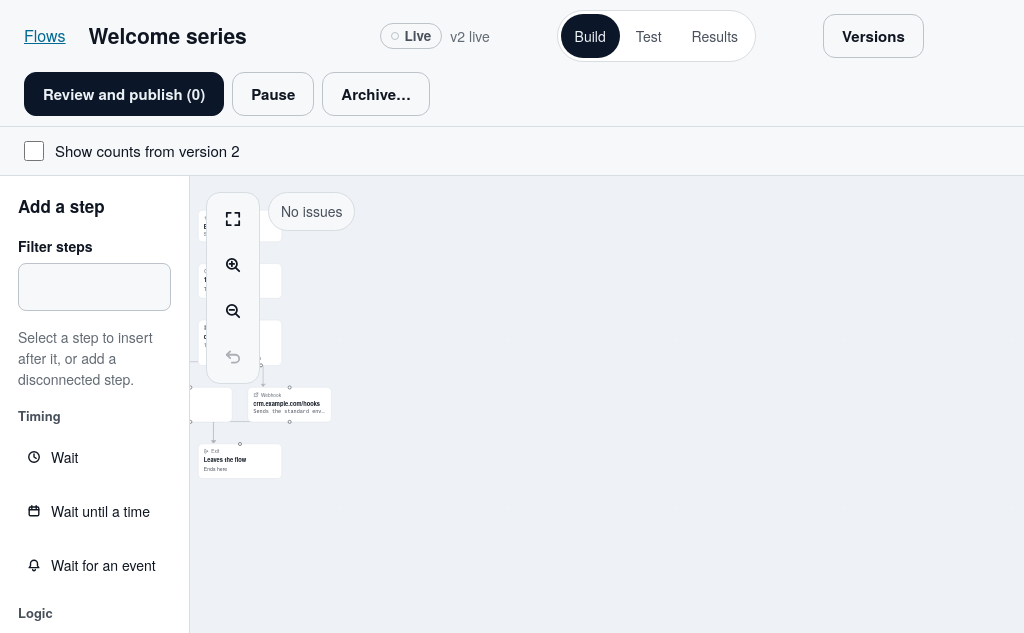
Test case: announcements and notices › drops an old notice once a later action goes through
Click the button "Pause".
click(273, 94)  # box [232,72,314,116]
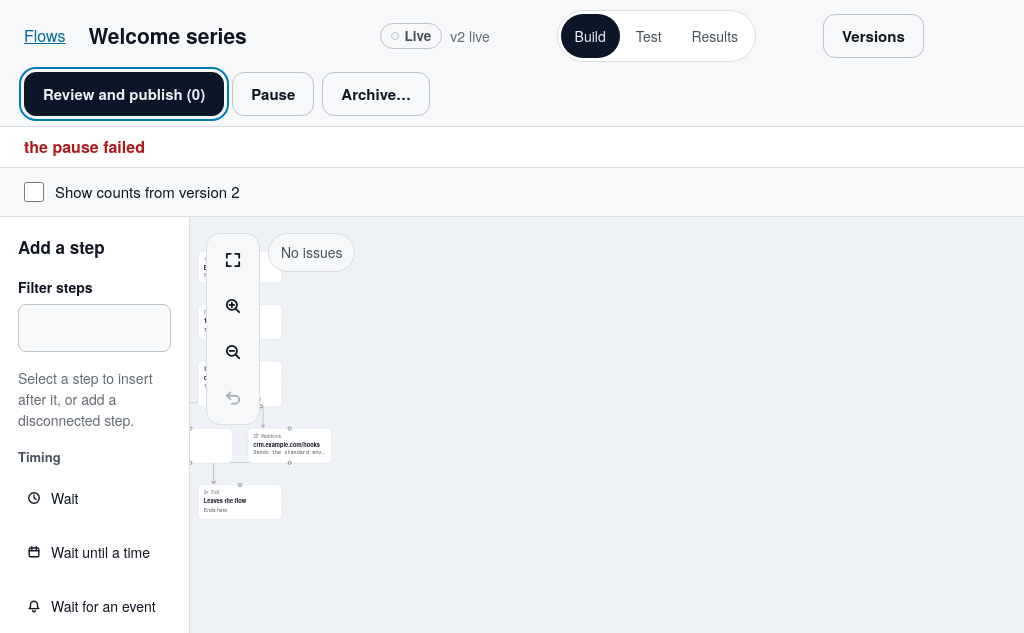
Check: the message "the pause failed" is shown, box [0,127,1023,168]
Click the button "Review and publish (0)".
click(124, 94)  # box [24,72,224,116]
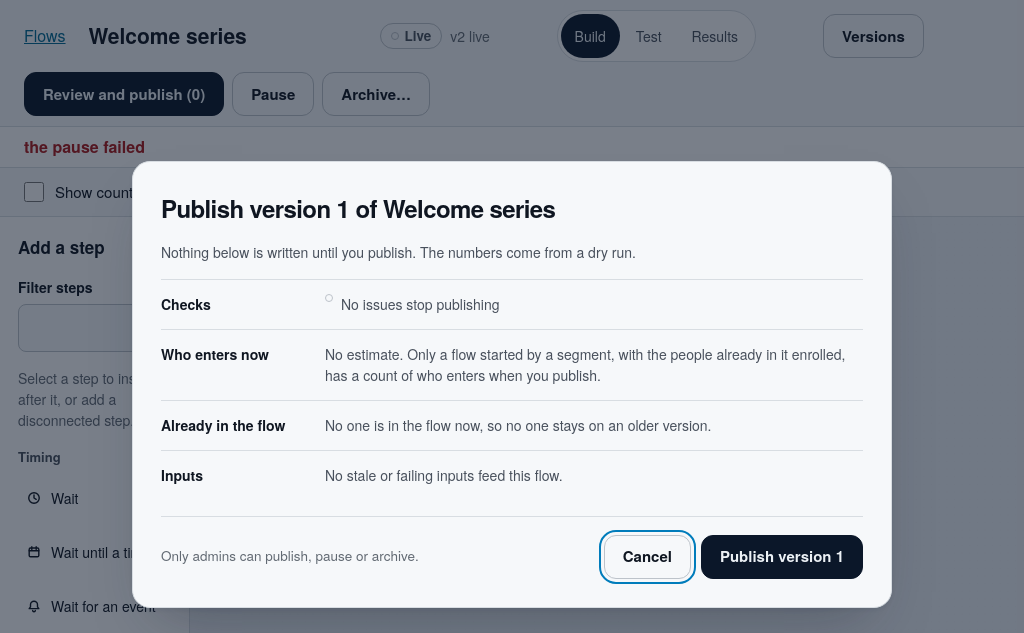
Click the button "Publish version 1".
click(782, 556)  # box [701,534,863,578]
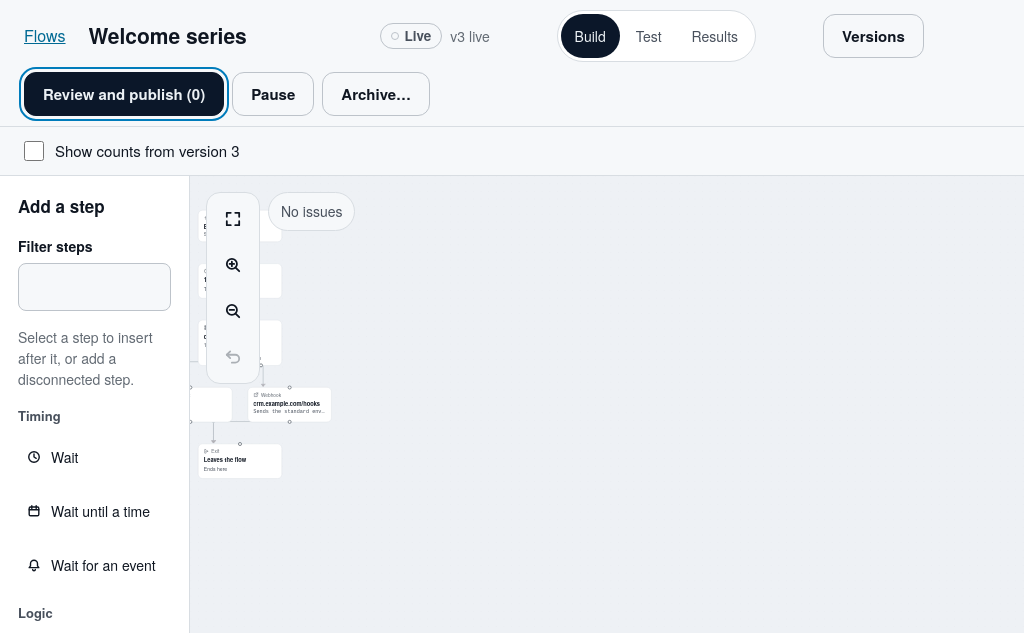
Check: the dialog is gone
Check: the text "the pause failed" is gone
